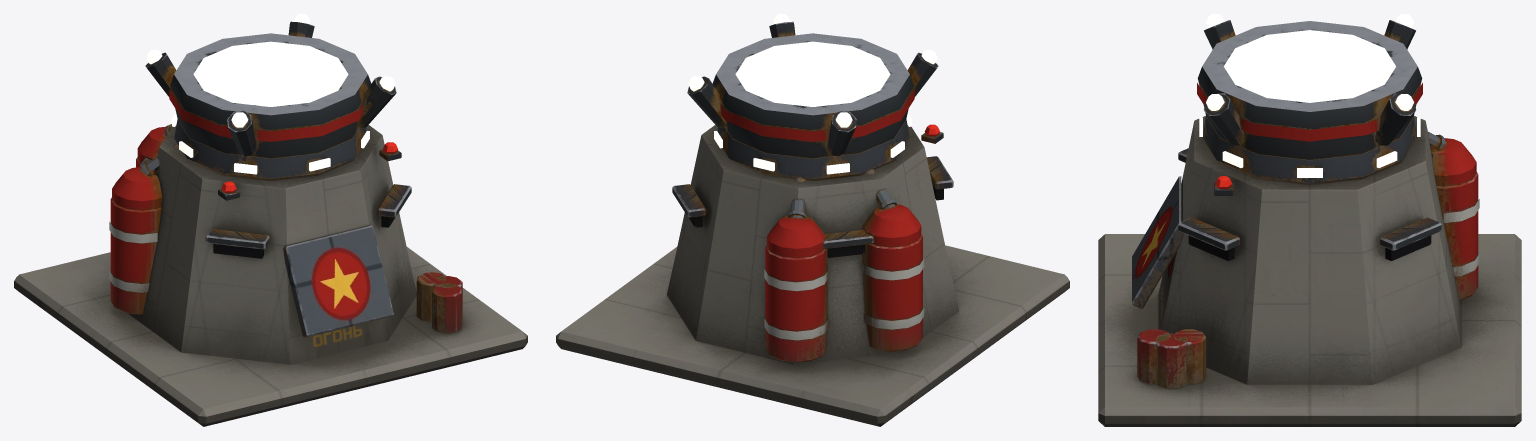
File: ftur.soviet.glb
3 views of the same model, side by side, from view 1: azimuth 30°, elevation 25°; view 2: azimuth 150°, elevation 25°; view 3: azimuth 270°, elevation 25° (orthographic). The views are drawn at different scales.
Parts seen in each view (by area): view 1: root_mesh; view 2: root_mesh; view 3: root_mesh.
Part boxes in pixels (<box>): root_mesh: <box>14,14,527,426</box>; root_mesh: <box>556,14,1069,426</box>; root_mesh: <box>1098,14,1521,426</box>.
Size of the model in its own units: 0.98 by 0.732 by 0.98.
2 materials, 1 textured.
